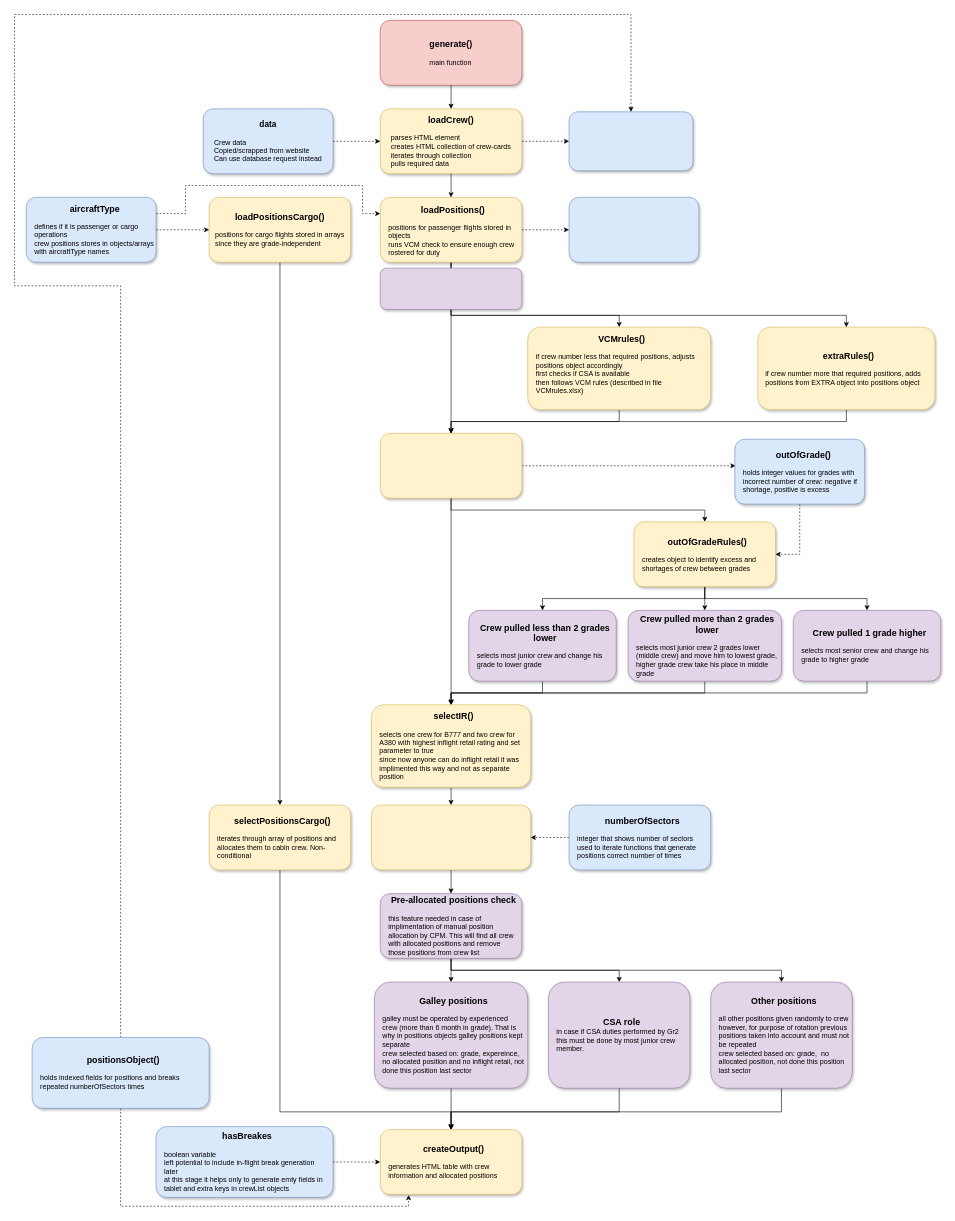
Image size: 955x1221. Some labels were removed from this diagram. The shapes that lost their labels are listed below. From the top down, each one's centre as x and y in pixels, then its label:
the point at 631,142: crewList array of objects with crew details
the point at 634,230: positions crew positions stores in objects/arrays with aircraftType names
the point at 451,289: VCM check selects most junior crew and change his grade to lower grade
the point at 451,466: checkOutOfGrade() checks if any grades have shortage or extar crew
the point at 451,838: selectPositions() generates positions for passenger flights main
